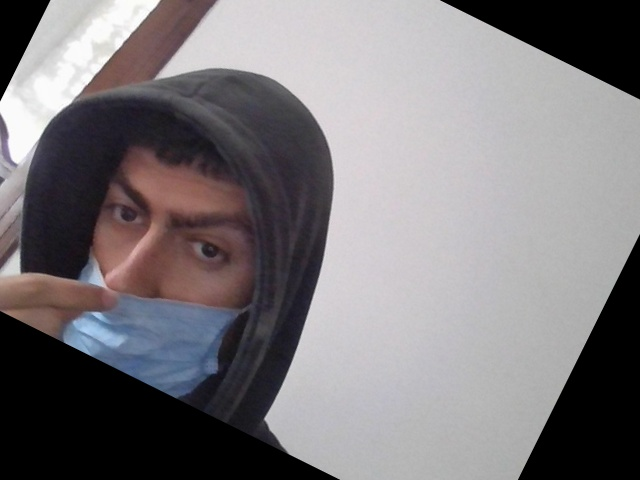mask_weared_incorrect: (46, 133, 292, 401)
